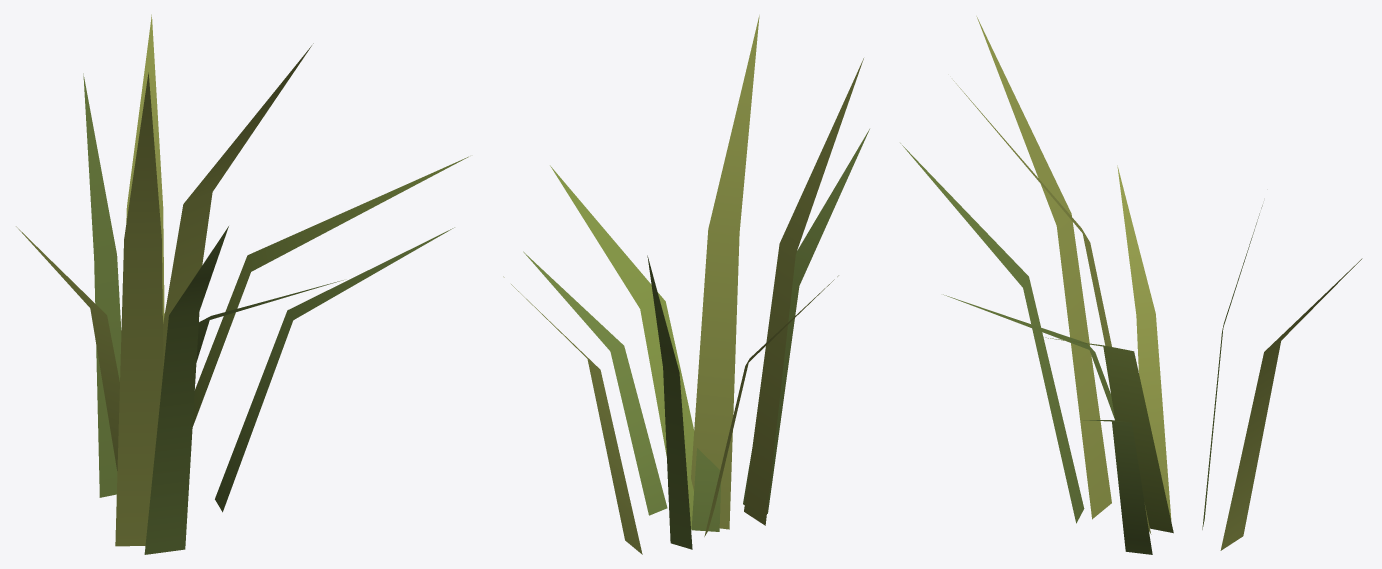
Rendered from grass_2.fbx.
3 renders of one model, left to right at view 1: azimuth 30°, elevation 25°; view 2: azimuth 150°, elevation 25°; view 3: azimuth 270°, elevation 25°, orthographic. The views are drawn at different scales.
Visible parts, largest first — view 1: grass_2; view 2: grass_2; view 3: grass_2.
Boxes of the visible parts, x1=… form: grass_2: x1=16, y1=14, x2=468, y2=554; grass_2: x1=503, y1=15, x2=869, y2=554; grass_2: x1=900, y1=16, x2=1362, y2=554.
Size of the model in its own units: 0.1932 by 0.2395 by 0.2146.
